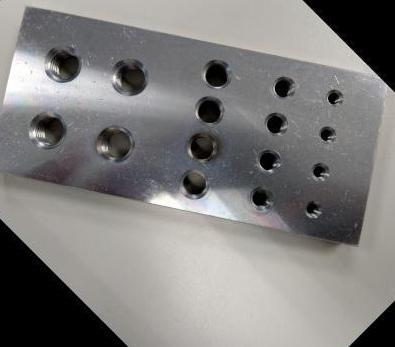hole: (101, 47, 159, 105), (19, 101, 75, 158), (87, 115, 143, 171), (35, 36, 90, 92), (179, 124, 224, 170), (186, 88, 232, 133), (171, 161, 216, 206), (194, 51, 239, 96), (250, 142, 288, 180), (244, 180, 280, 216), (258, 105, 294, 141), (266, 69, 302, 105), (305, 156, 335, 186), (321, 83, 349, 111), (299, 195, 327, 222), (314, 121, 341, 148)
